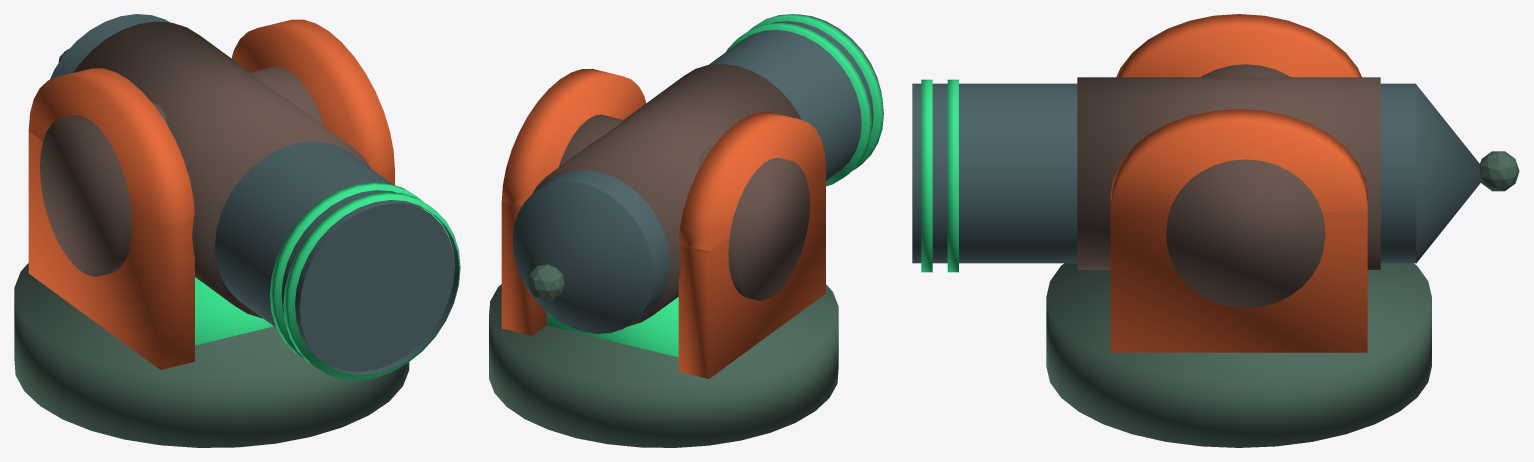
File: twer0_0.fbx
The picture shows the model from 3 angles, left to right: view 1: azimuth 30°, elevation 25°; view 2: azimuth 150°, elevation 25°; view 3: azimuth 270°, elevation 25°; orthographic projection. The views are drawn at different scales.
Parts seen in each view (by area): view 1: Icosphere; view 2: Icosphere; view 3: Icosphere.
Part boxes in pixels (x1,y1,x2,y2): Icosphere: (14,14,460,447); Icosphere: (489,14,883,447); Icosphere: (912,14,1519,447).
Bounding box in the file's own units: 120 × 102 × 189.
